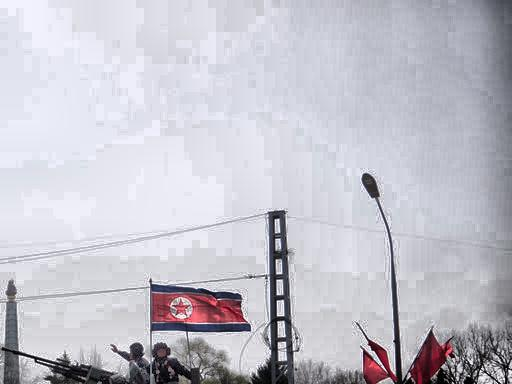tanks: (42, 359, 127, 384), (193, 373, 199, 384)
